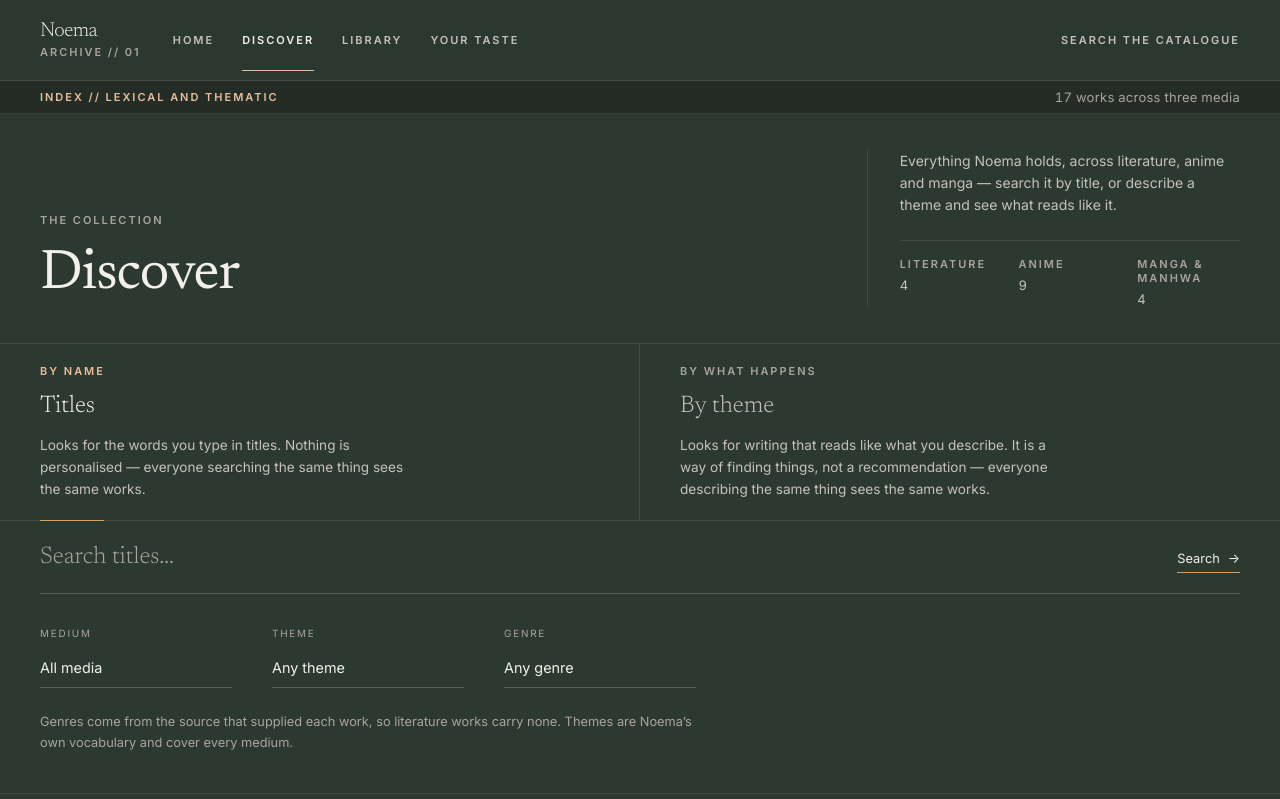
Test case: Discover › says "across the whole work" when the passage sits in no container
Click the button "By theme": (748, 371) [640,344,1240,520]
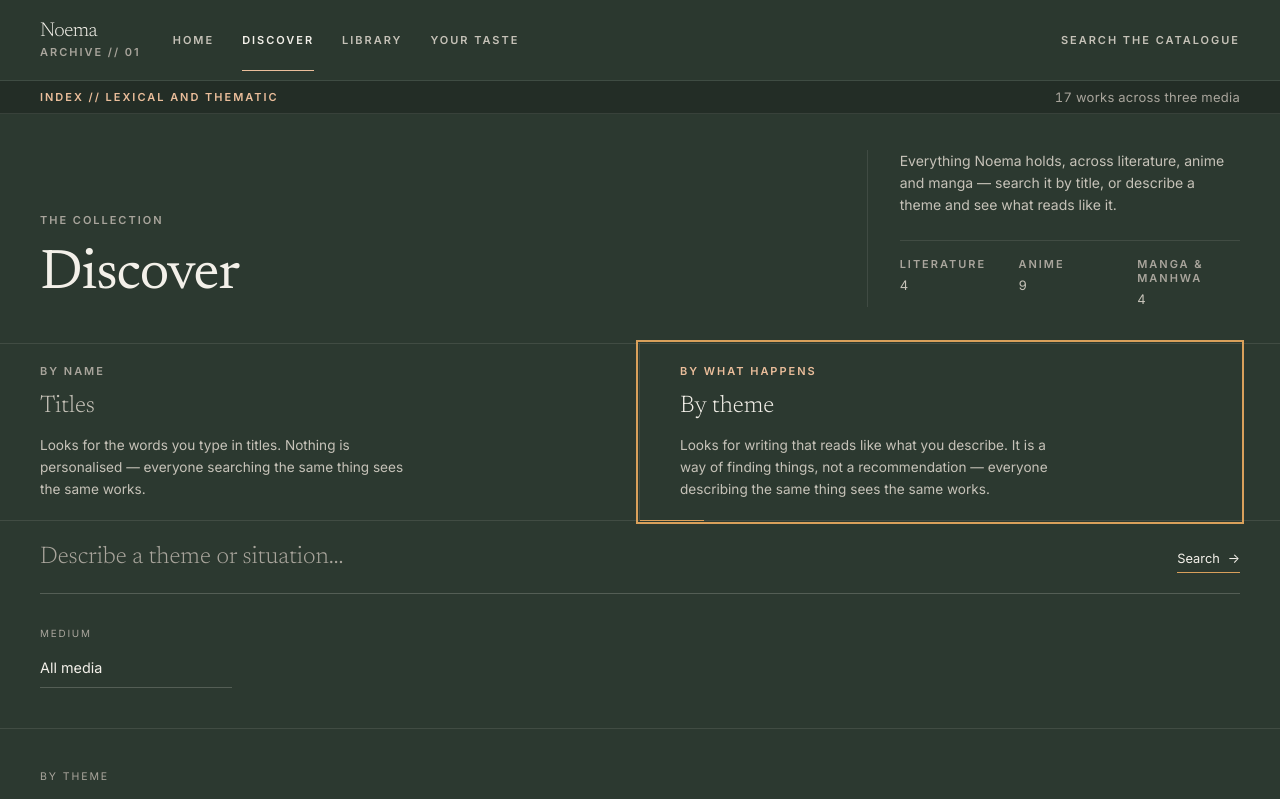
In the search field labelled "Describe a theme": (597, 557) [40,541,1153,573], type "isolation"
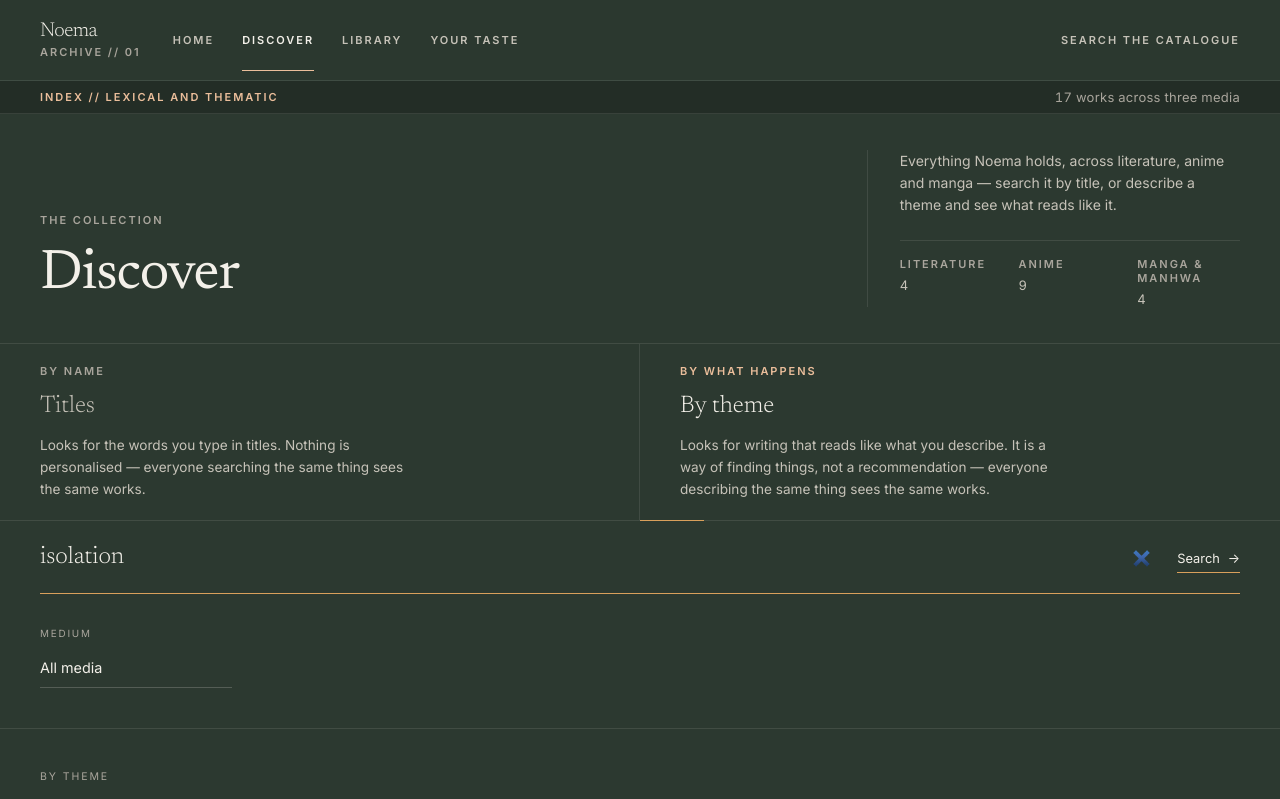
Click the button "Search →": (1209, 561) [1177,549,1240,573]
(page scrolled)
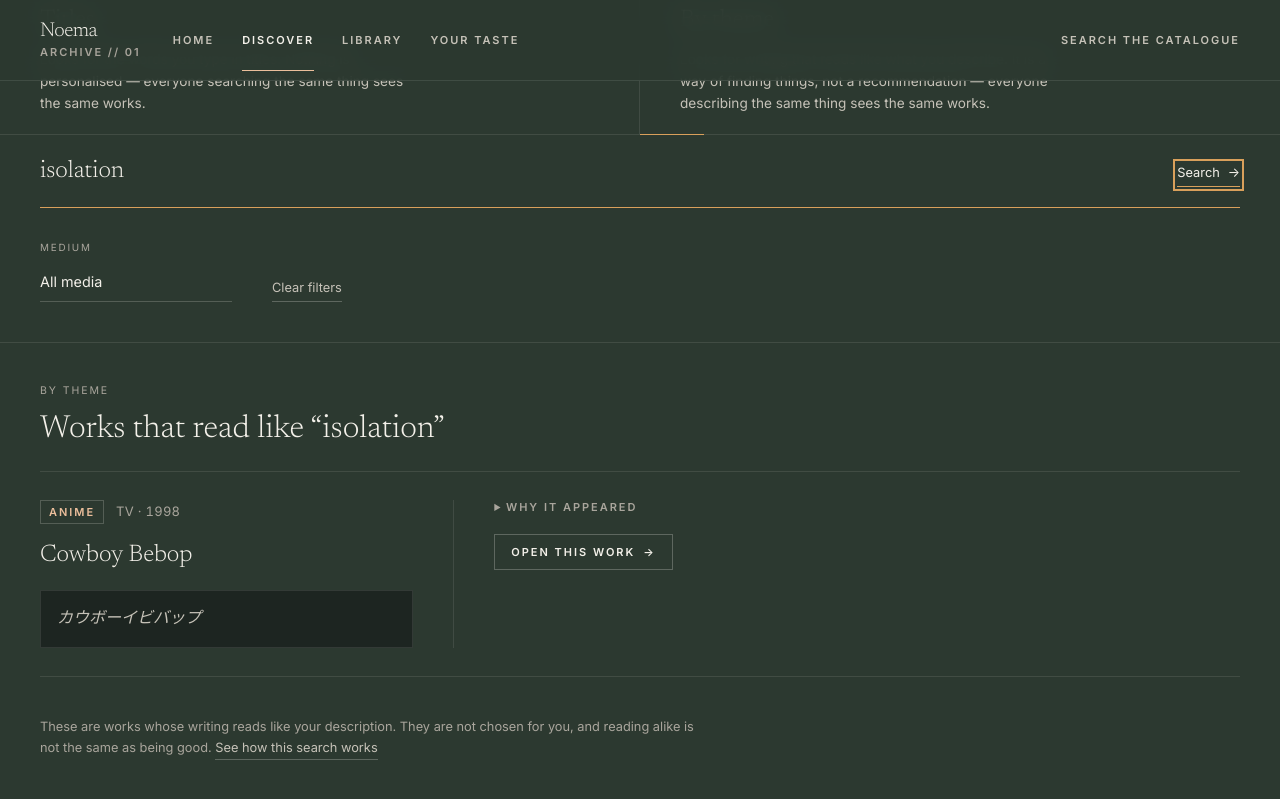
Click the heading "Why it appeared": (572, 507) [506,500,638,514]
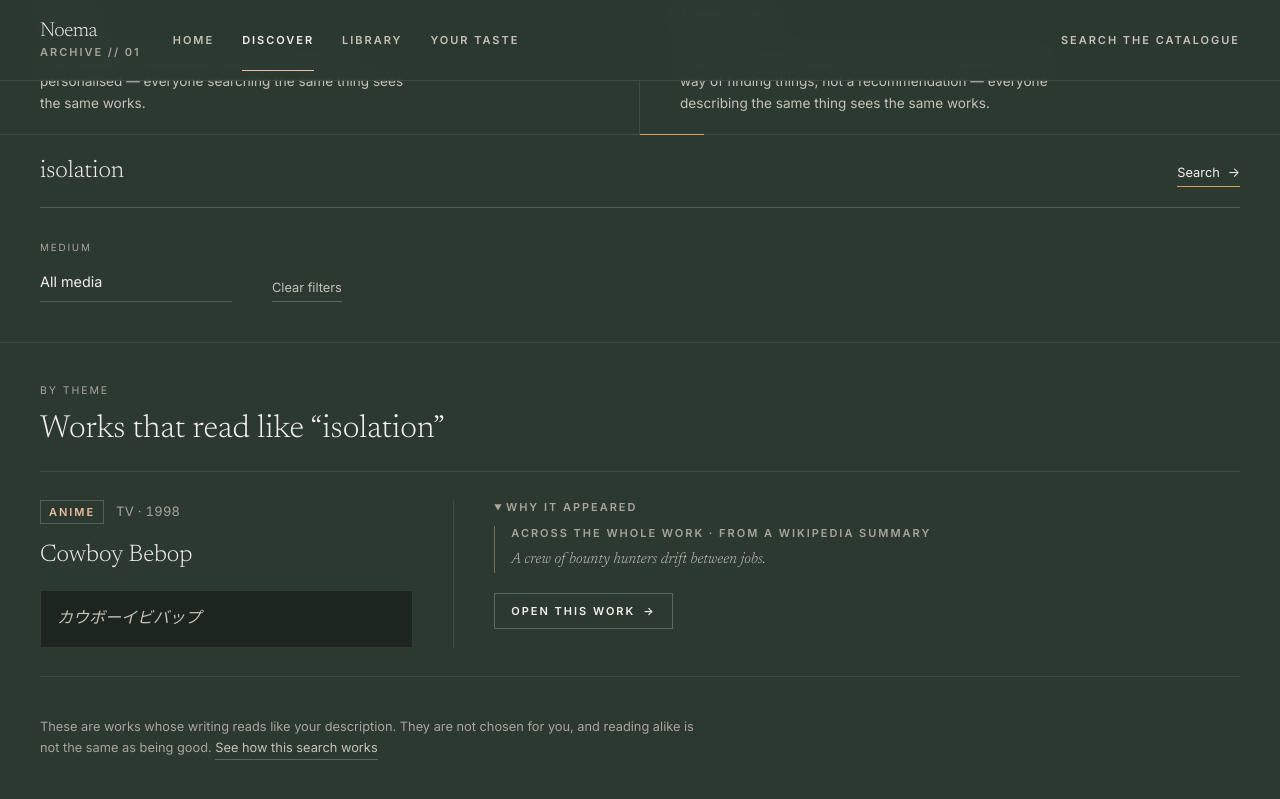
Now the text "across the whole work · from a wikipedia summary" is shown, box [511,526,931,540]
